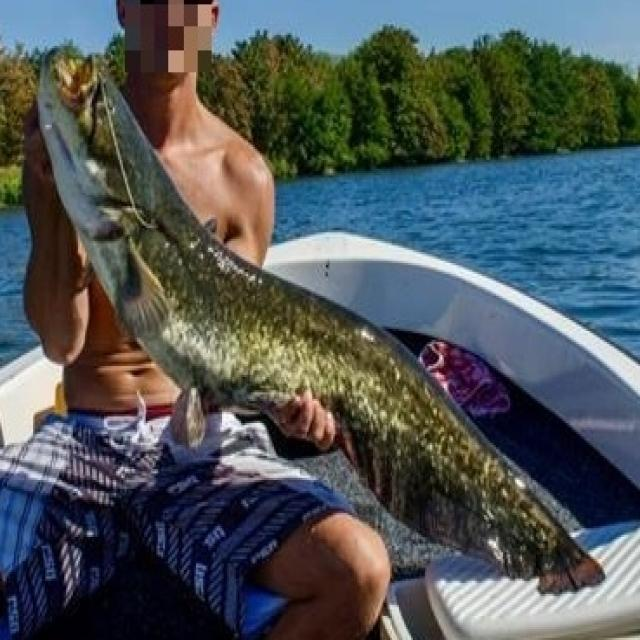Catfish: (31, 41, 623, 632)
